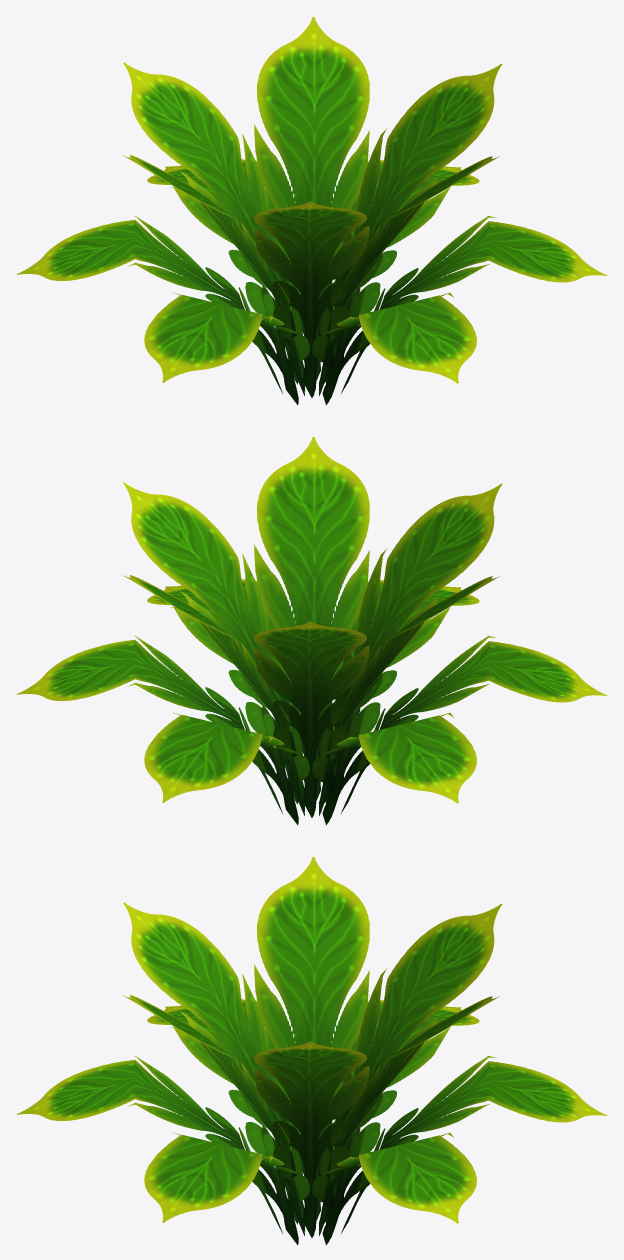
The model's file is Green_Bush_02a.FBX.
3 views of the same model, one above another, from view 1: azimuth 30°, elevation 25°; view 2: azimuth 150°, elevation 25°; view 3: azimuth 270°, elevation 25° (orthographic).
Parts seen in each view (by area): view 1: Green_Bush_02a; view 2: Green_Bush_02a; view 3: Green_Bush_02a.
Boxes of the visible parts, x1,y1,x2,y2 form: Green_Bush_02a: (16, 17, 607, 405); Green_Bush_02a: (16, 437, 607, 825); Green_Bush_02a: (16, 857, 607, 1245).
Bounding box in the file's own units: 141 × 77.96 × 146.
